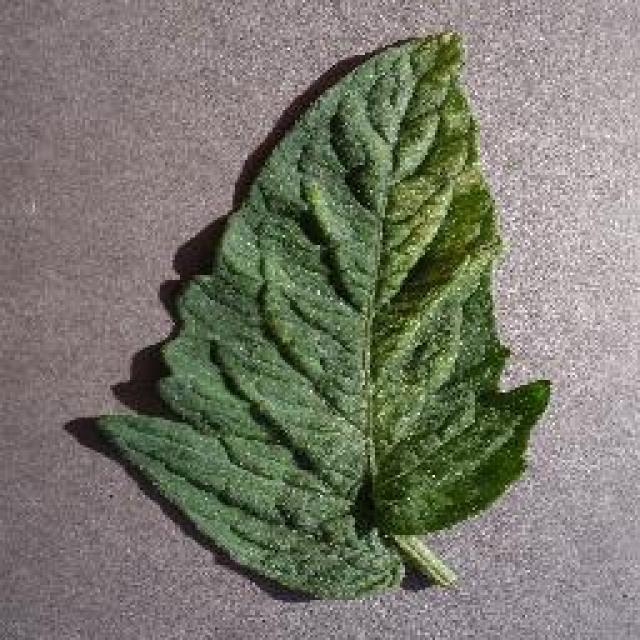Tomato mosaic virus leaf: (88, 34, 552, 601)
